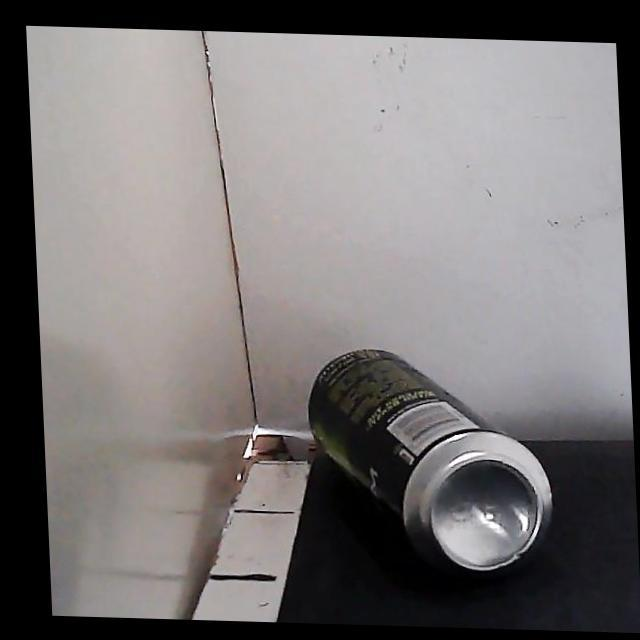metal: (309, 349, 551, 576)
